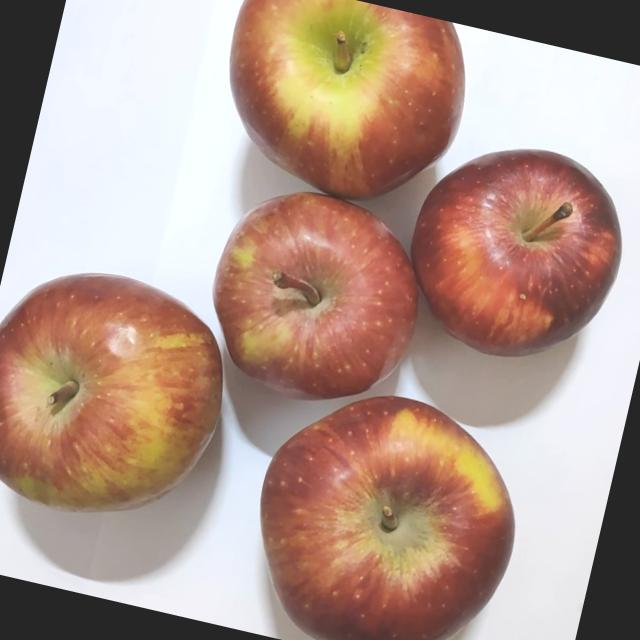apple: (219, 378, 537, 640), (0, 260, 248, 567), (183, 0, 484, 245), (171, 180, 441, 448), (372, 132, 638, 404)
